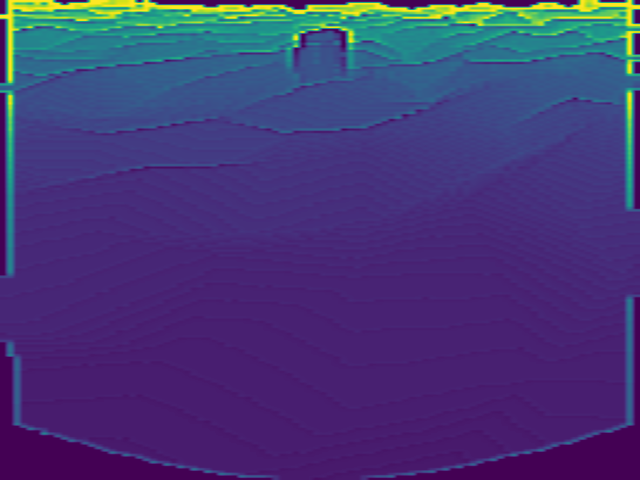car_0198: (290, 26, 352, 81)
